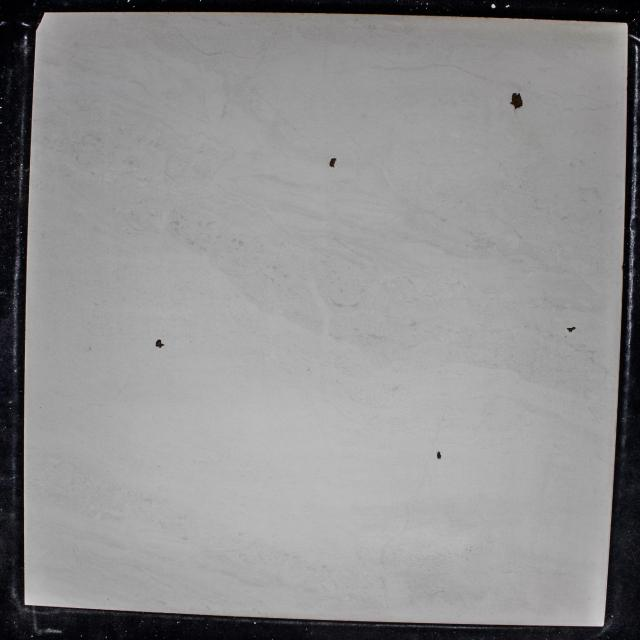edge-chipping: (34, 10, 46, 32)
hole: (508, 90, 526, 112), (328, 156, 338, 169), (154, 339, 166, 349), (566, 326, 576, 333), (436, 450, 442, 460)
